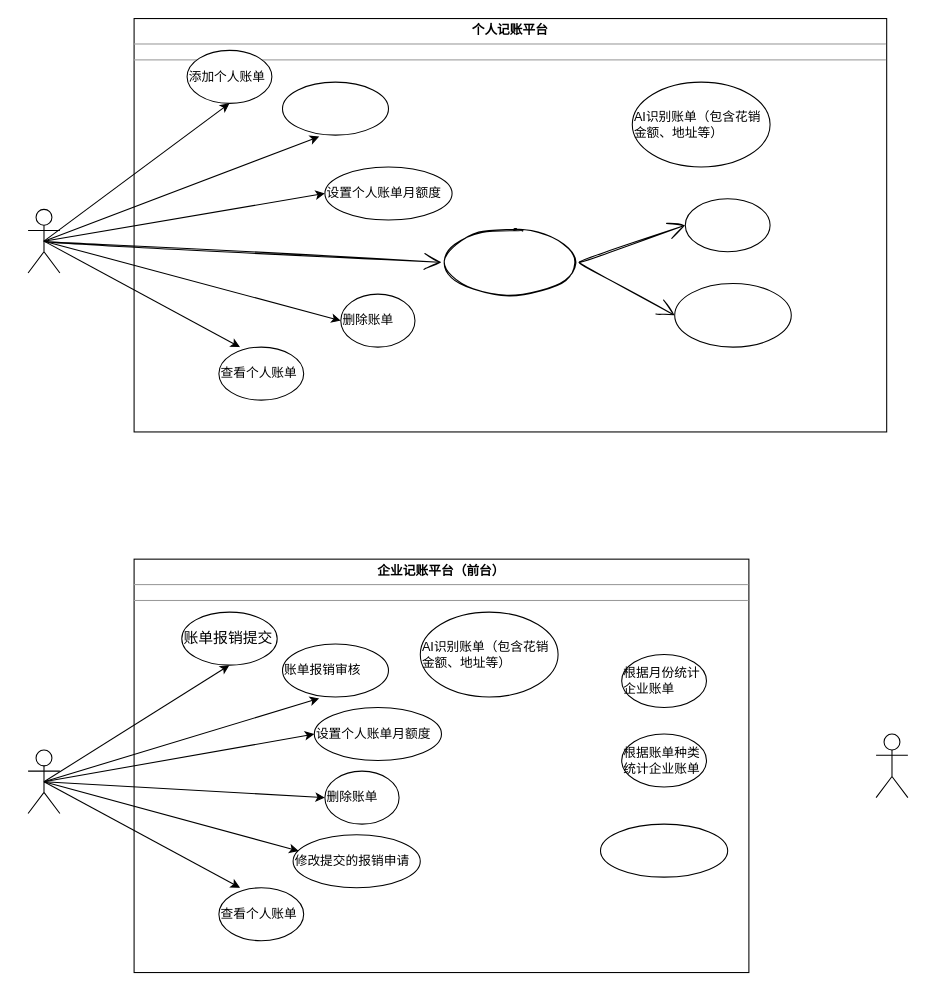
Image size: 941x991. Some labels were removed from this diagram. The centre of each missing label's shape, as x and y in pixels:
个人用户: [43,240]
个人账务统计: [509,261]
个人账单种类管理: [334,108]
企业用户: [43,781]
企业管理员: [891,765]
根据月份统计个人账单: [727,225]
根据账单种类统计个人账单: [732,314]
设置员工审核规则: [663,850]
